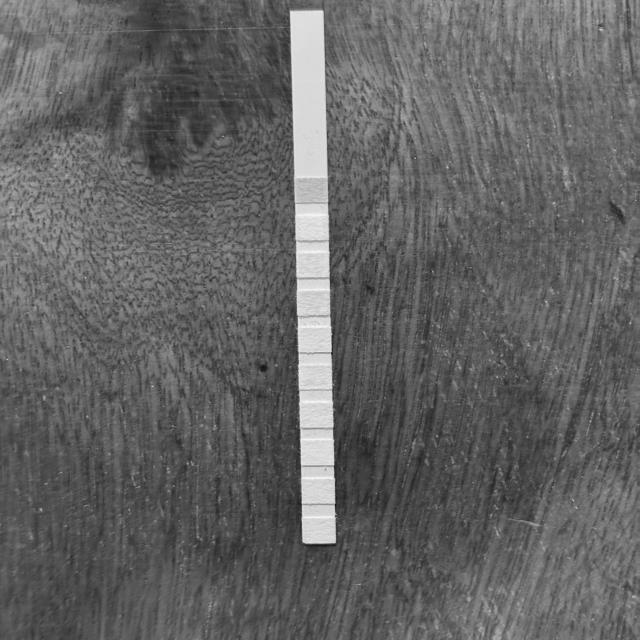Bilirubin: (296, 216, 330, 241)
Blood: (299, 329, 332, 352)
Glucose: (295, 178, 328, 202)
Ketone: (298, 254, 328, 278)
Leukocytes: (303, 518, 335, 544)
Nitrite: (300, 479, 334, 504)
Protein: (300, 403, 333, 428)
SpGravity: (297, 293, 330, 316)
Urobilinogen: (301, 441, 335, 466)
background: (0, 0, 640, 640)
pH: (300, 366, 332, 390)
strip: (290, 11, 336, 544)
